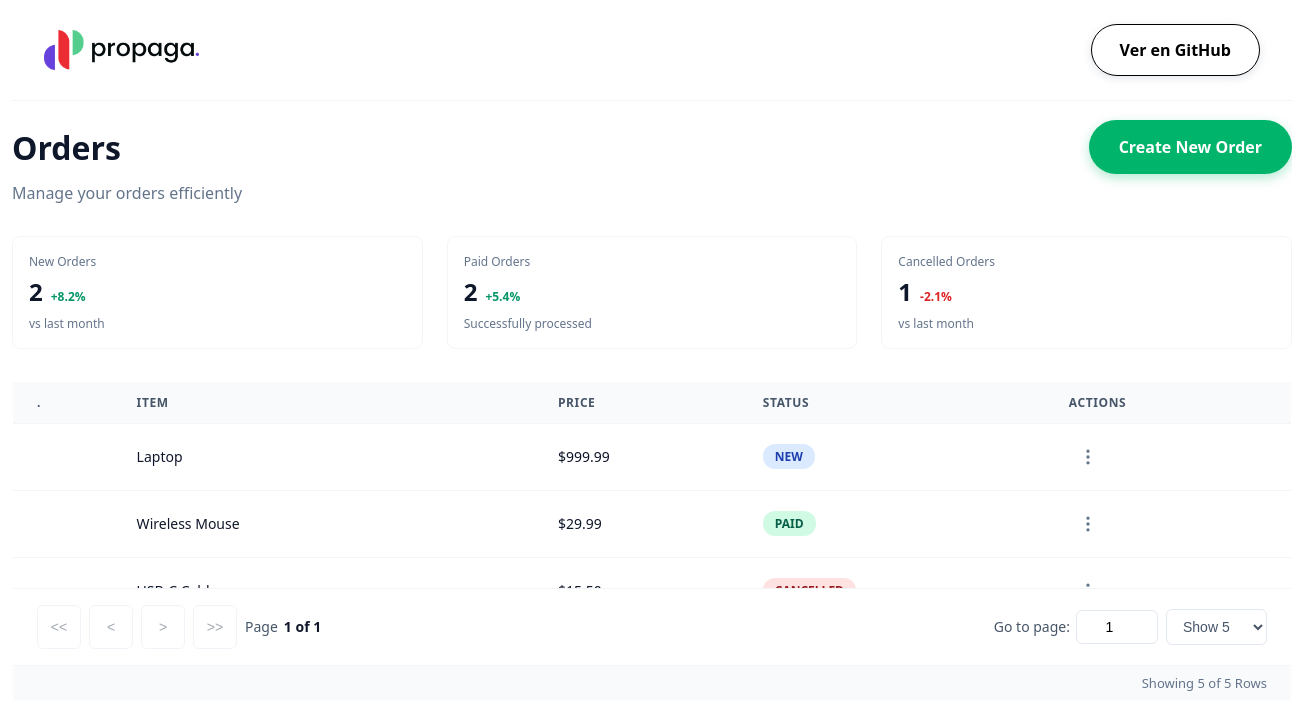
Test: Orders List › Table Interactions › should show correct actions for NEW order
The image size is (1304, 720).
Click the button named "Open menu" in the row of "Laptop": coordinates (1088, 457) left=1069, top=438, right=1107, bottom=476
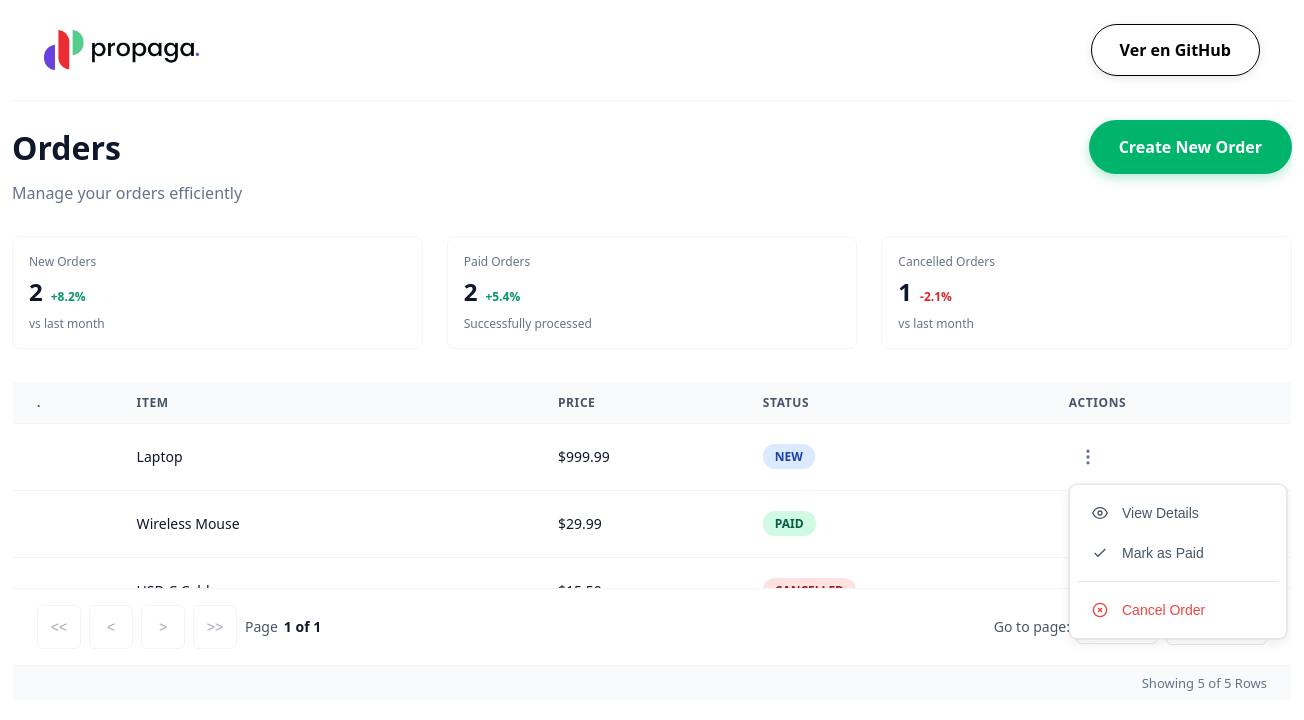
Check: the menu item "Mark as Paid" is shown, box left=1078, top=533, right=1278, bottom=573
Check: the menu item "Cancel Order" is shown, box left=1078, top=590, right=1278, bottom=630
